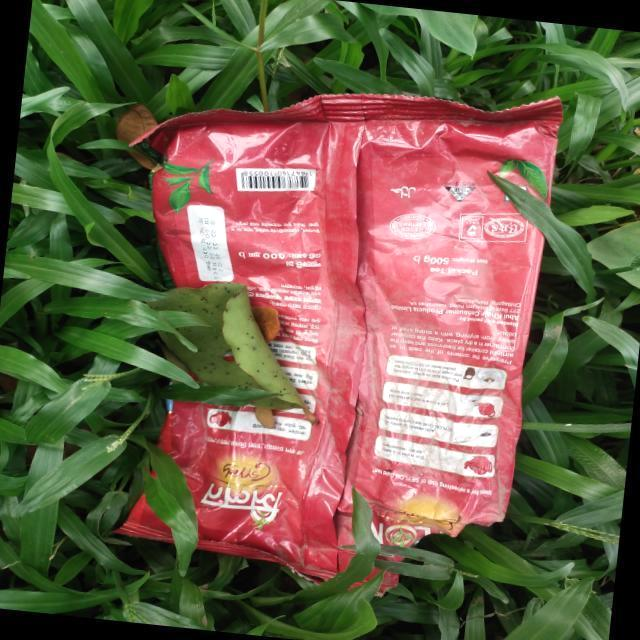packet: (102, 58, 559, 608)
